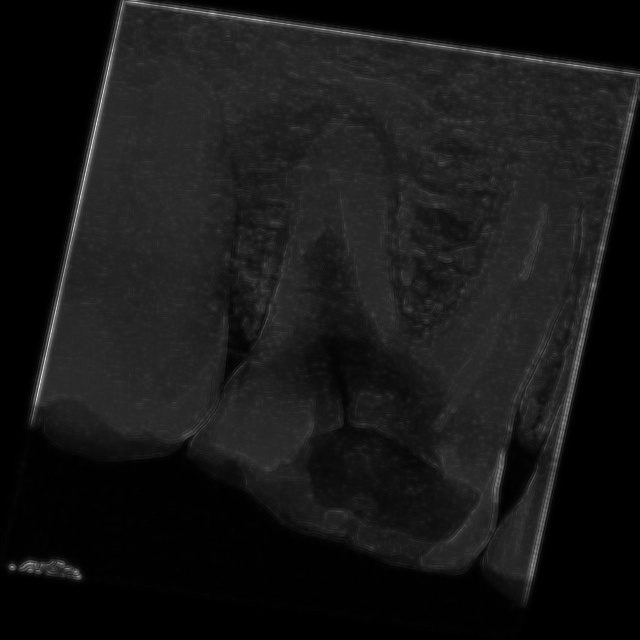Class 2- incomplete endodontic treatment: (142, 67, 608, 604)
